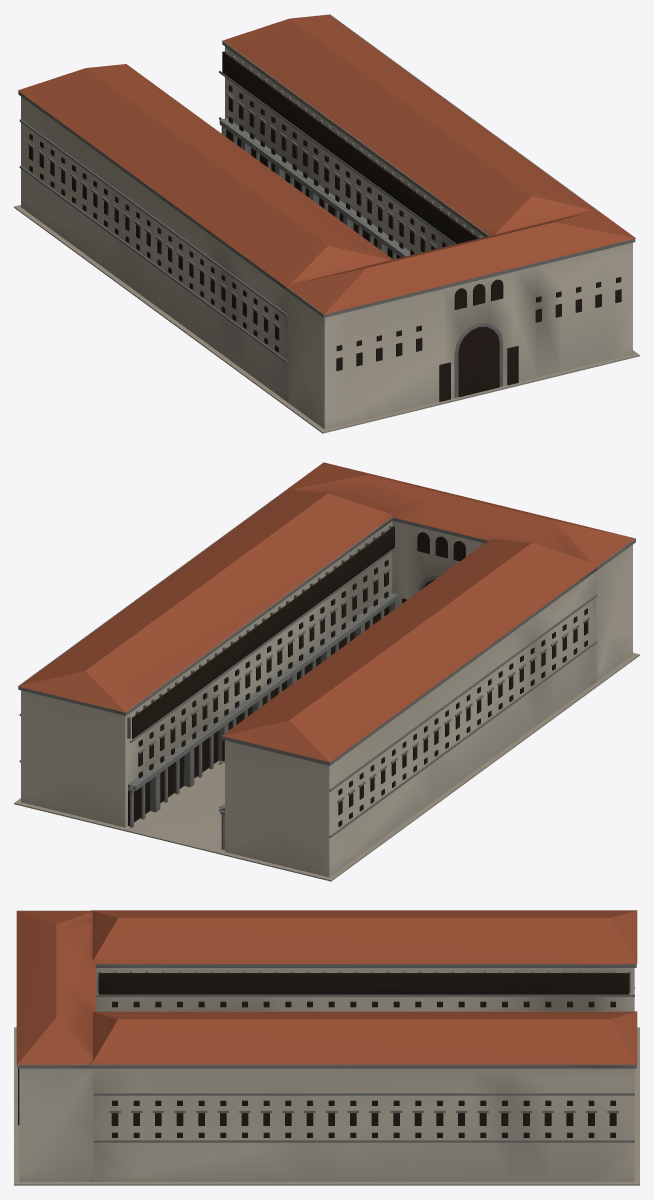
File: uffizi.glb
3 renders of one model, top to bottom at view 1: azimuth 30°, elevation 25°; view 2: azimuth 150°, elevation 25°; view 3: azimuth 270°, elevation 25°, orthographic.
Visible parts, largest first — view 1: p0_walls, p1_roofs; view 2: p0_walls, p1_roofs; view 3: p0_walls, p1_roofs.
Boxes of the visible parts, <box> form: p0_walls: <box>14,14,639,433</box>; p1_roofs: <box>18,14,635,314</box>; p0_walls: <box>14,463,639,881</box>; p1_roofs: <box>18,462,635,762</box>; p0_walls: <box>14,910,639,1185</box>; p1_roofs: <box>16,910,637,1065</box>.
Size of the model in its own units: 70 by 28.85 by 118.
